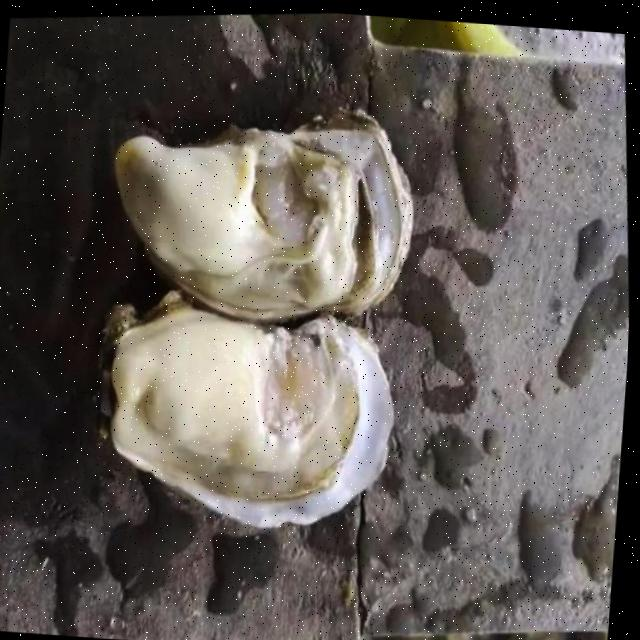Oyster-Open: (104, 91, 423, 331), (93, 295, 405, 539)
